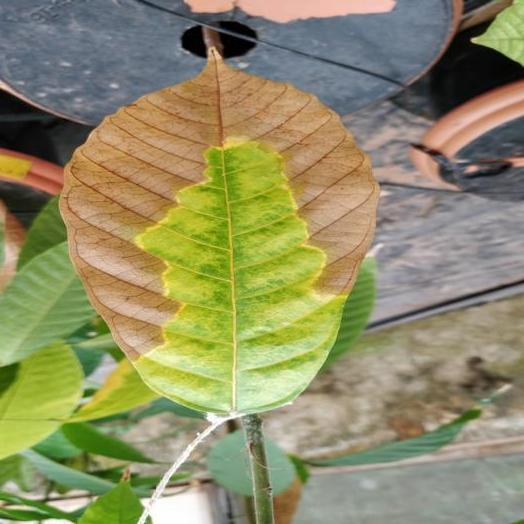Potassium: (60, 48, 378, 416)
